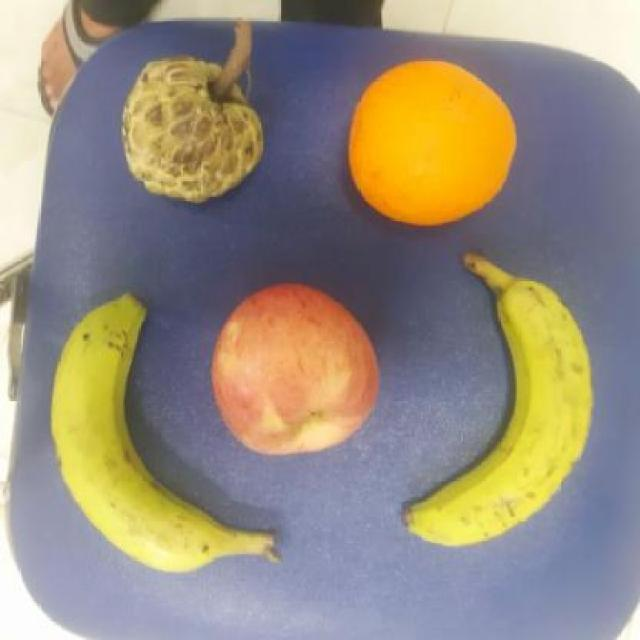apple: (207, 284, 381, 461)
banana: (398, 275, 596, 553), (46, 296, 226, 572)
oren: (344, 54, 521, 229)
sugar apple: (113, 54, 267, 211)
